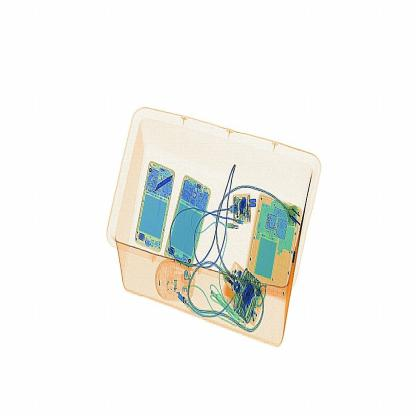pliers: (148, 167, 178, 198)
